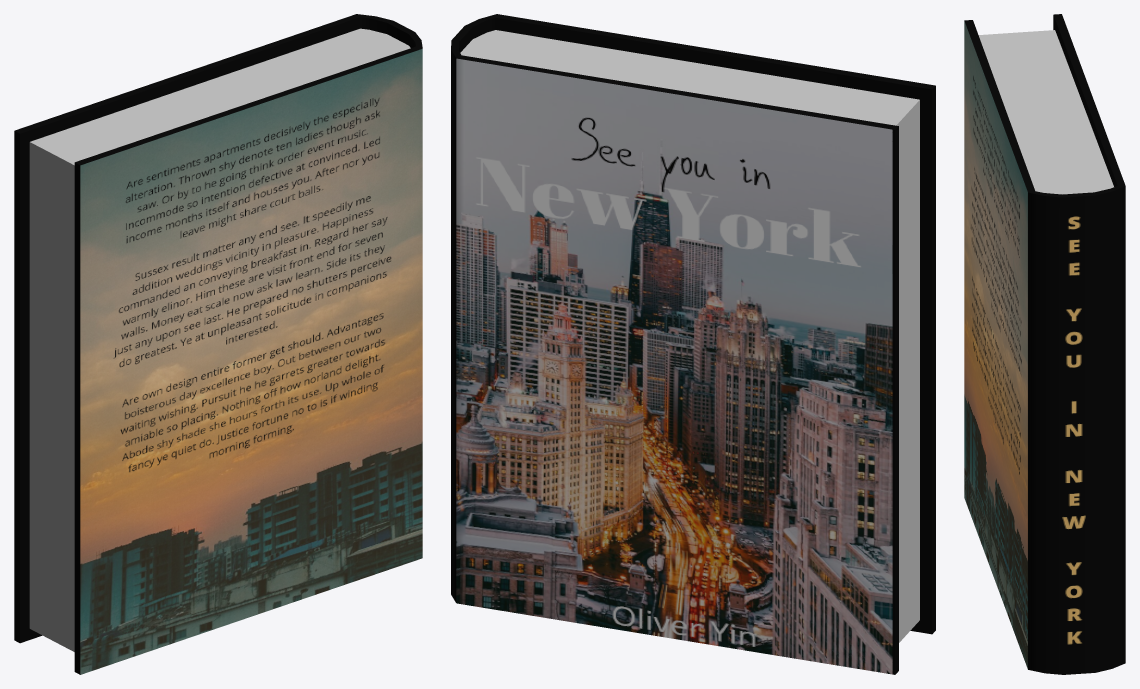
Rendered from book.fbx.
The picture shows the model from 3 angles, left to right: view 1: azimuth 30°, elevation 25°; view 2: azimuth 150°, elevation 25°; view 3: azimuth 270°, elevation 25°; orthographic projection. The views are drawn at different scales.
Visible parts, largest first — view 1: book; view 2: book; view 3: book.
Boxes of the visible parts, x1,y1,x2,y2 form: book: (14,14,422,674); book: (451,14,935,674); book: (964,14,1125,674).
Size of the model in its own units: 24.58 by 29.78 by 9.13.
